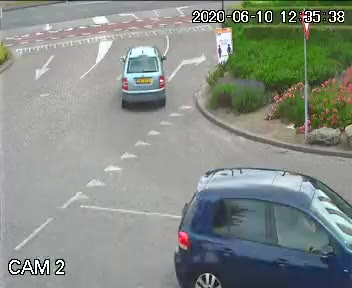car: (170, 162, 352, 288), (112, 42, 175, 117)
